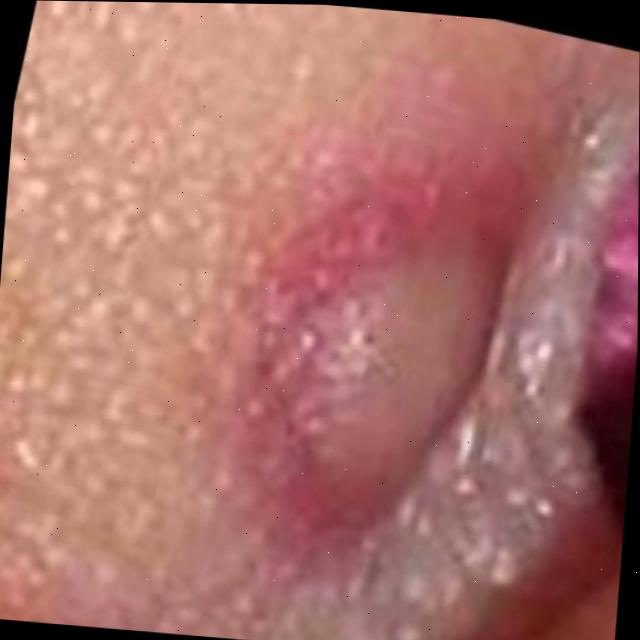Eczema: (263, 233, 497, 511)
